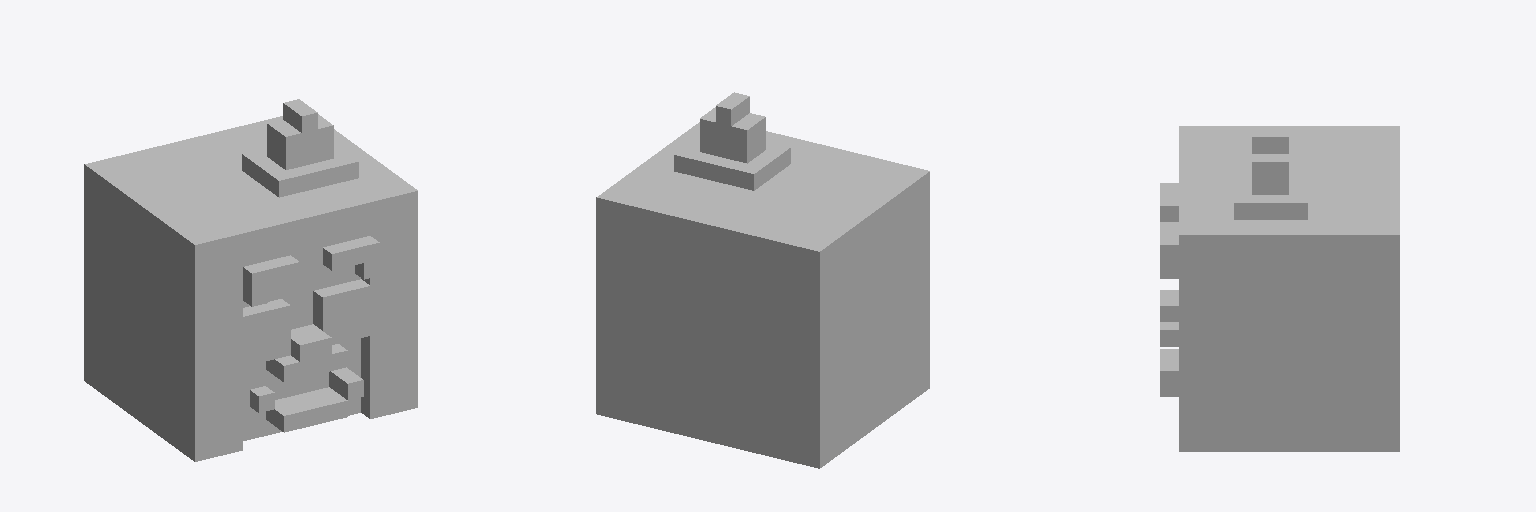
Rendered from red.obj.
3 renders of one model, left to right at view 1: azimuth 30°, elevation 25°; view 2: azimuth 150°, elevation 25°; view 3: azimuth 270°, elevation 25°, orthographic.
Parts seen in each view (by area): view 1: object 1; view 2: object 1; view 3: object 1.
Boxes of the visible parts, box(x1,y1,x2,y2) form: object 1: box(84, 99, 417, 461); object 1: box(596, 92, 929, 468); object 1: box(1160, 126, 1399, 451).
Size of the model in its own units: 1.4 by 1.7 by 1.3.